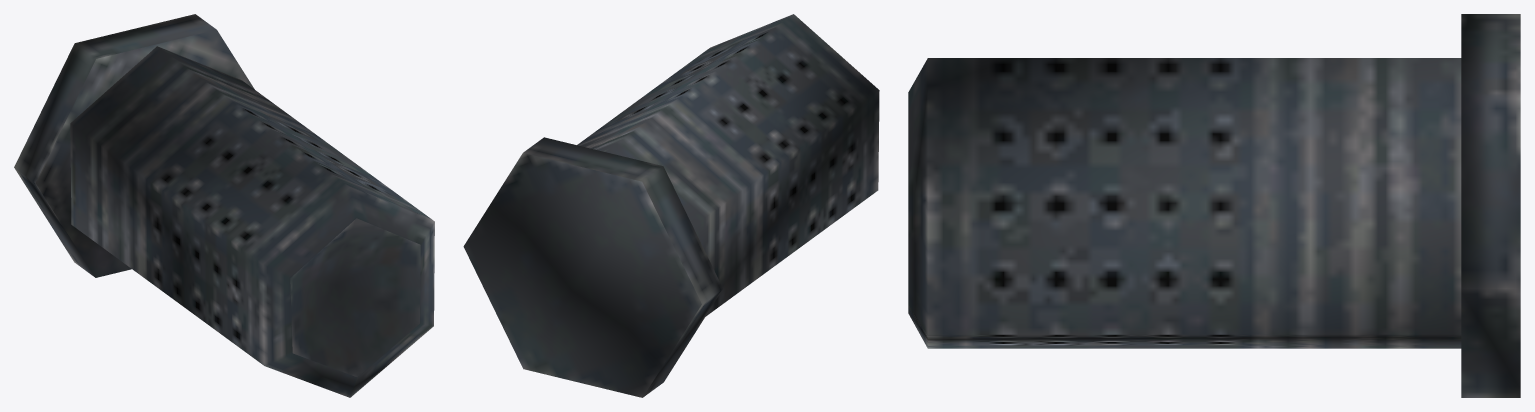
Rendered from Sniper_Rifle_jjq_qt_01_lod_Stock_LOD_(000148).glb.
The picture shows the model from 3 angles, left to right: view 1: azimuth 30°, elevation 25°; view 2: azimuth 150°, elevation 25°; view 3: azimuth 270°, elevation 25°; orthographic projection. The views are drawn at different scales.
Visible parts, largest first — view 1: jjq_qt_01_lod; view 2: jjq_qt_01_lod; view 3: jjq_qt_01_lod.
Boxes of the visible parts, left/top/right/bottom form: jjq_qt_01_lod: left=14, top=14, right=434, bottom=397; jjq_qt_01_lod: left=463, top=14, right=879, bottom=397; jjq_qt_01_lod: left=908, top=14, right=1520, bottom=397.
Bounding box in the file's own units: 0.0538 × 0.0467 × 0.0855.
Materials: 1 (1 with a texture image).
